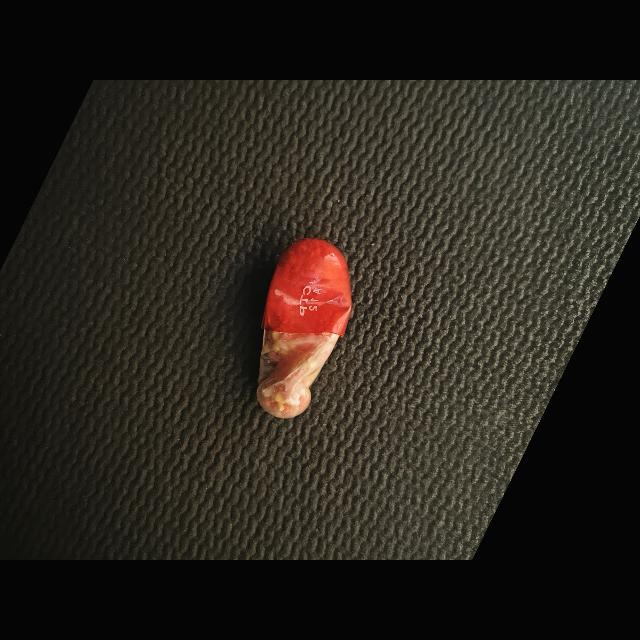Defective Capsule: (257, 239, 352, 418)
